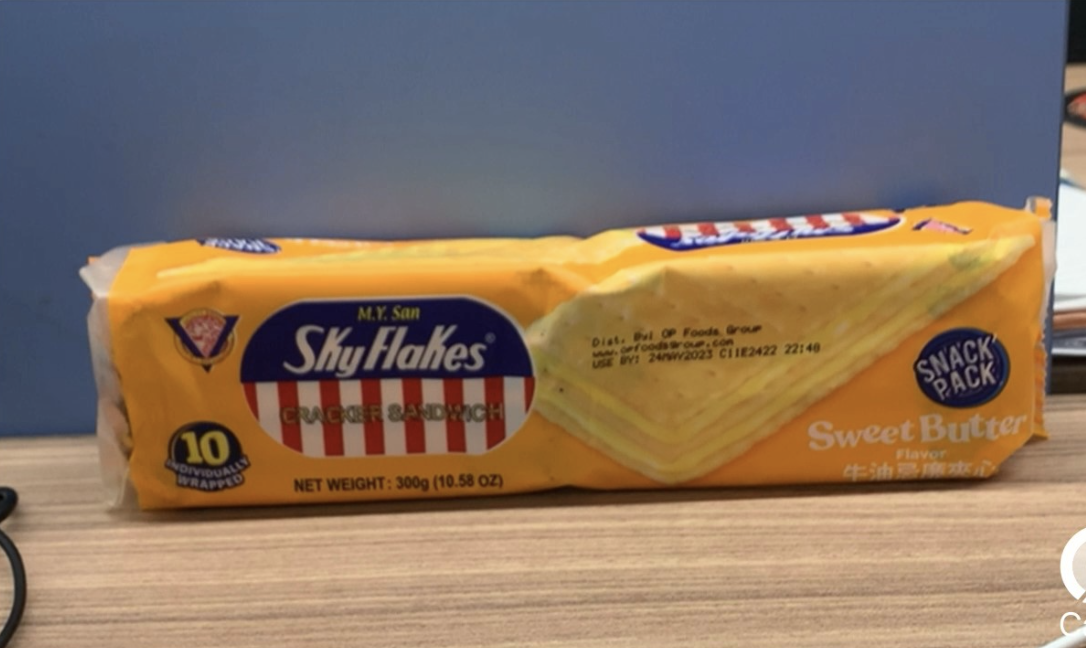crackers_450g: (138, 278, 1024, 473)
